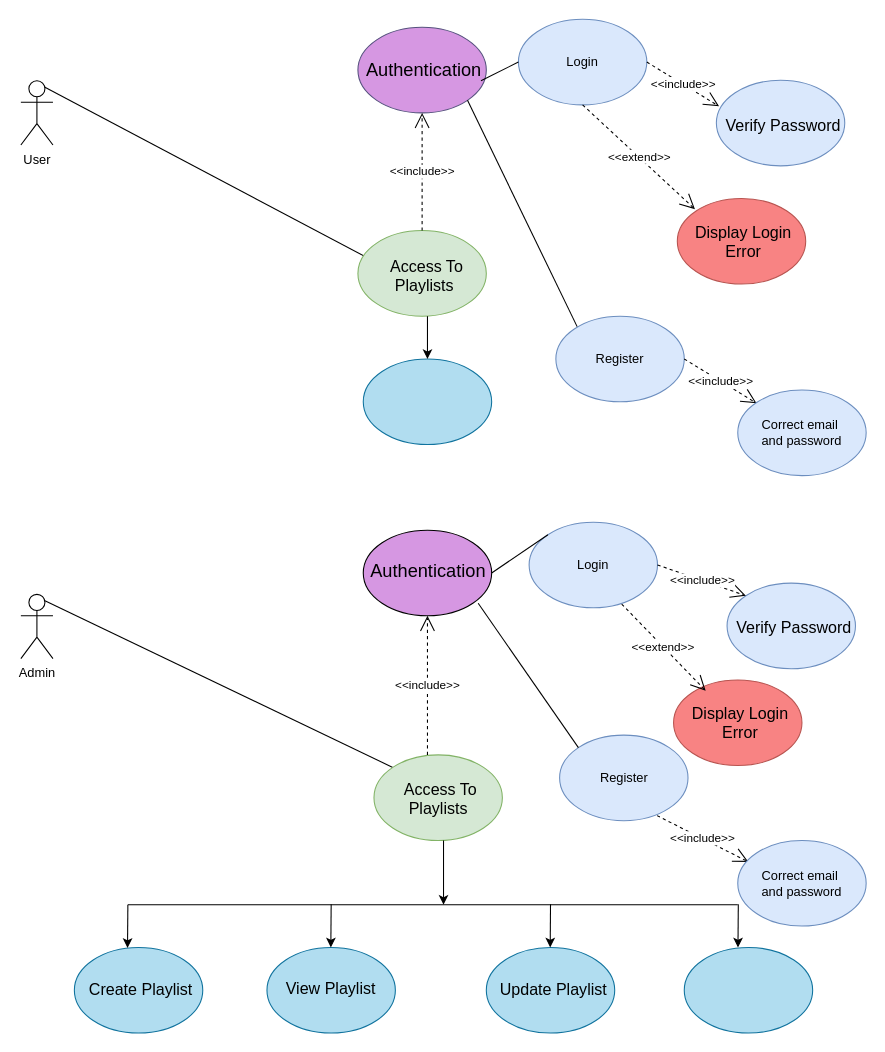
Some shapes in this 885 by 1052 pixel diagram are drawn without their labels. Here are the shapes that lost their labels. From the top down, the centre of each, then its label:
At (427,401): "Listen audio".
At (748,989): "Delete Playlist".
